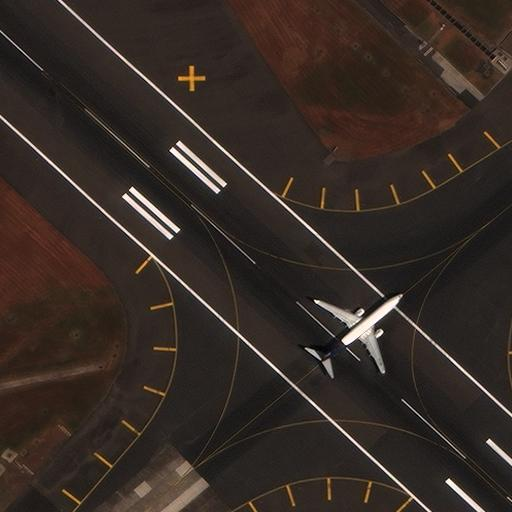Medium Civil Transport: (315, 295, 401, 373)
